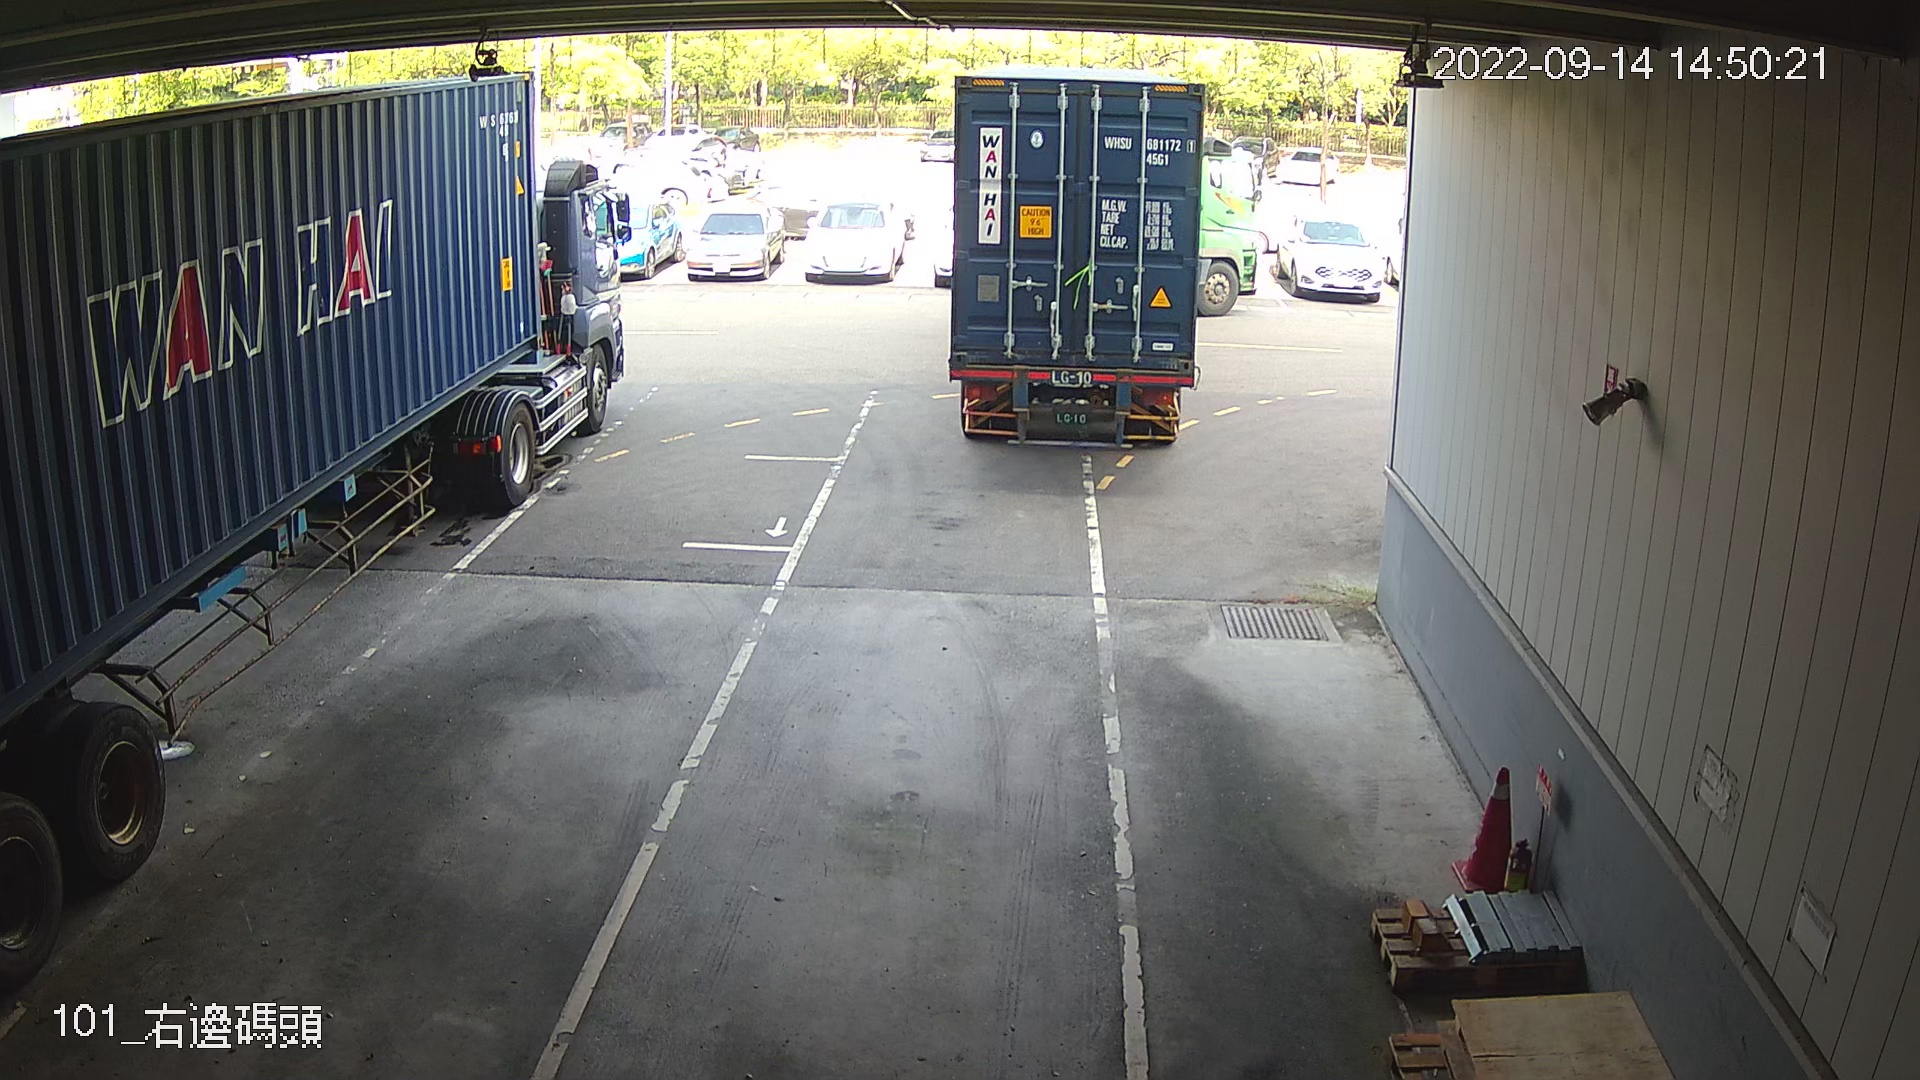container: (1101, 131, 1197, 171)
